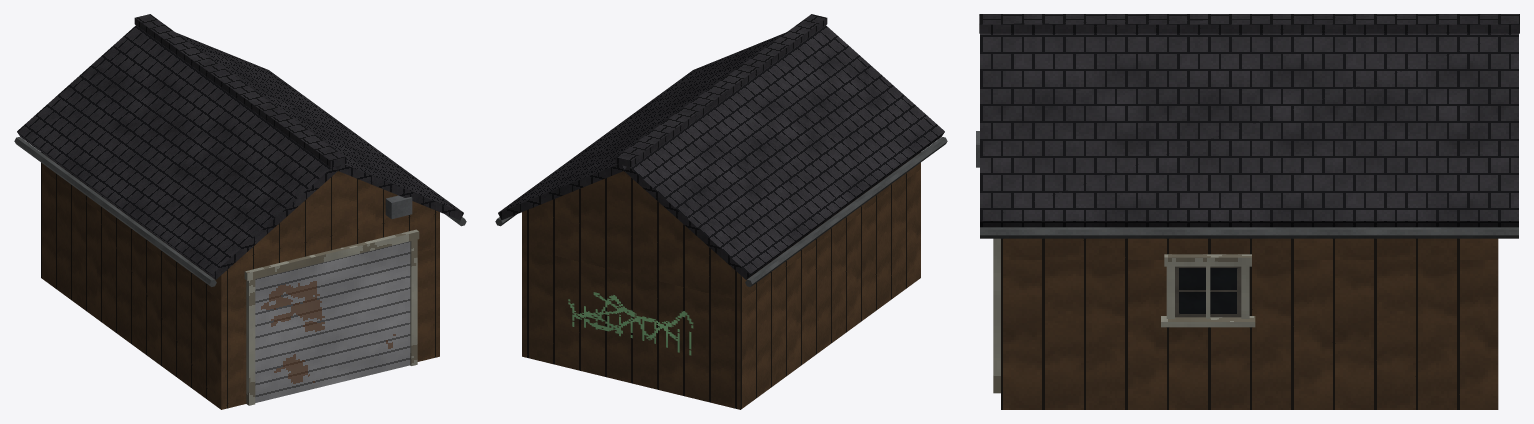
Rendered from town_garage.glb.
3 views of the same model, side by side, from view 1: azimuth 30°, elevation 25°; view 2: azimuth 150°, elevation 25°; view 3: azimuth 270°, elevation 25° (orthographic). The views are drawn at different scales.
Visible parts, largest first — view 1: detail, shell-col; view 2: detail, shell-col; view 3: detail, shell-col.
Part boxes in pixels (<box>): detail: <box>14,14,466,405</box>; shell-col: <box>41,152,439,409</box>; detail: <box>495,14,947,355</box>; shell-col: <box>522,152,920,409</box>; detail: <box>976,14,1519,393</box>; shell-col: <box>1001,238,1498,409</box>.
Bounding box in the file's own units: 4.94 × 4.22 × 6.56.
8 materials, 8 textured.
